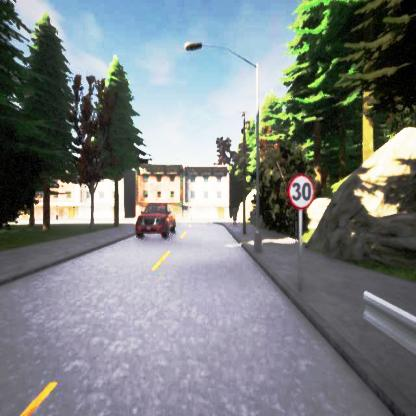vehicle: (135, 204, 176, 238)
